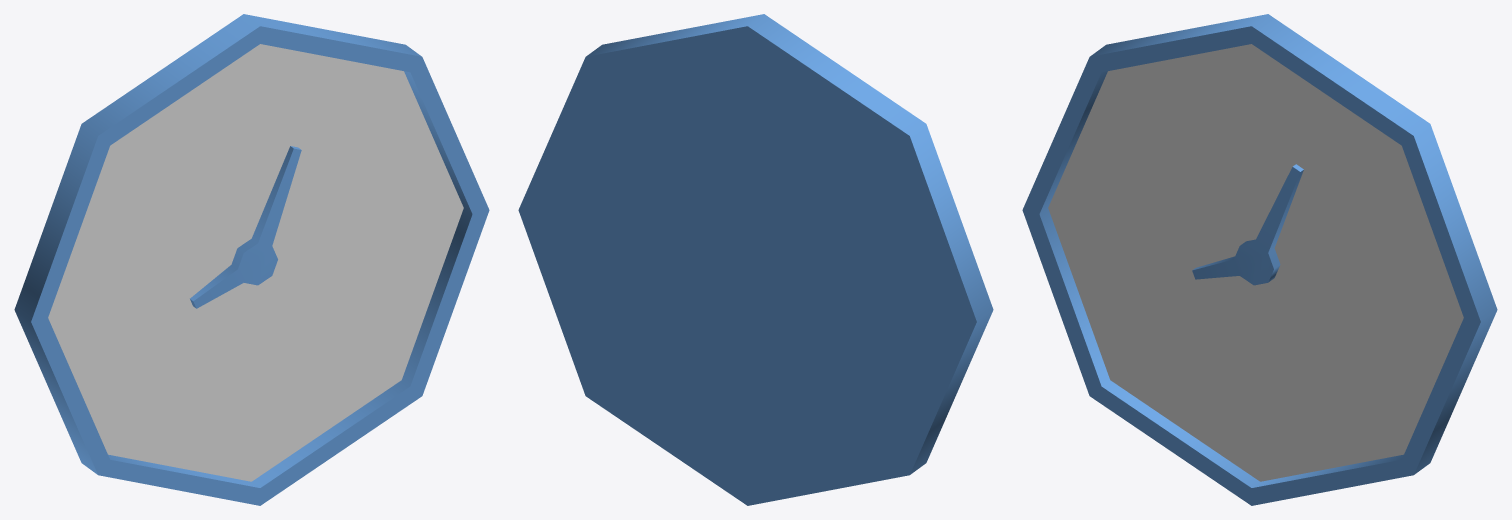
The model's file is Clock.fbx.
3 renders of one model, left to right at view 1: azimuth 30°, elevation 25°; view 2: azimuth 150°, elevation 25°; view 3: azimuth 330°, elevation 25°, orthographic.
Visible parts, largest first — view 1: Clock; view 2: Clock; view 3: Clock.
Part boxes in pixels (left/top/right/bottom): Clock: left=14, top=14, right=489, bottom=505; Clock: left=518, top=14, right=993, bottom=505; Clock: left=1022, top=14, right=1497, bottom=505.
Size of the model in its own units: 68.2 by 68.2 by 4.28.
